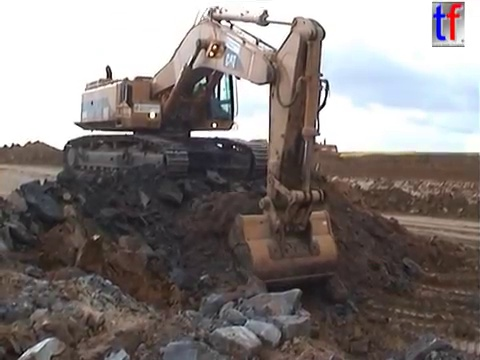excavator: (59, 3, 342, 292)
wheel loader: (281, 130, 339, 162)
